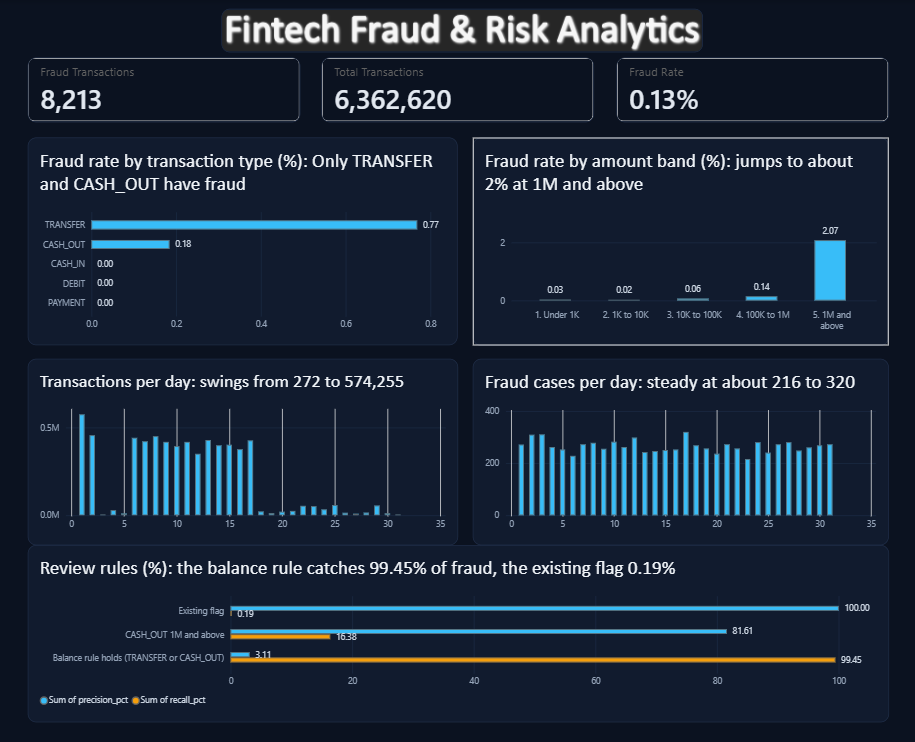

What the dashboard file says about the page in this screenshot:
{"tool":"powerbi","page":{"name":"Dashboard","canvas":[1280,1040],"ordinal":0},"visuals":[{"type":"clusteredBarChart","title":"Review rules (%): the balance rule catches 99.45% of fraud, the existing flag 0.19%","fields":{"Category":["Summary_rules.rule_name"],"Y":["Sum(Summary_rules.precision_pct)","Sum(Summary_rules.recall_pct)"]},"box":[40.9,759.1,1200.7,247.5],"z":0},{"type":"clusteredBarChart","title":"Fraud rate by transaction type (%): Only TRANSFER and CASH_OUT have fraud","fields":{"Category":["Summary_By_Type.type"],"Y":["Sum(Summary_By_Type.fraud_rate_pct)"]},"box":[40.9,192,599.1,289.8],"z":1000},{"type":"clusteredColumnChart","title":"Fraud rate by amount band (%): jumps to about 2% at 1M and above","fields":{"Category":["Summary_By_Amount_Band.amount_band"],"Y":["Sum(Summary_By_Amount_Band.fraud_rate_pct)"]},"box":[660.5,191.7,580,290],"z":2000},{"type":"clusteredColumnChart","title":"Transactions per day: swings from 272 to 574,255","fields":{"Category":["Summary_by_day.sim_day"],"Y":["Sum(Summary_by_day.txns)"]},"box":[40,500,600,260],"z":3000},{"type":"clusteredColumnChart","title":"Fraud cases per day: steady at about 216 to 320","fields":{"Category":["Summary_by_day.sim_day"],"Y":["Sum(Summary_by_day.fraud_txns)"]},"box":[660,500,580,260],"z":4000},{"type":"cardVisual","fields":{"Data":["Summary_By_Type.Fraud Rate"]},"box":[860,80,380,90],"z":5000},{"type":"cardVisual","fields":{"Data":["Summary_By_Type.Total Transactions"]},"box":[450,79.6,380,90],"z":6000},{"type":"cardVisual","fields":{"Data":["Summary_By_Type.Fraud Transactions"]},"box":[40,80,380,90],"z":7000},{"type":"image","box":[310,12,670.9,61],"z":8000}]}

Visuals, with their boxes in screenshot pixels (x1, y1, x2, y2), scaled from the page's 1280x1040 canvas onto the 915x742 screenshot:
"Review rules (%): the balance rule catches 99.45% of fraud, the existing flag 0.19%" clusteredBarChart: box=[29, 542, 888, 718]
"Fraud rate by transaction type (%): Only TRANSFER and CASH_OUT have fraud" clusteredBarChart: box=[29, 137, 458, 344]
"Fraud rate by amount band (%): jumps to about 2% at 1M and above" clusteredColumnChart: box=[472, 137, 887, 344]
"Transactions per day: swings from 272 to 574,255" clusteredColumnChart: box=[29, 357, 458, 542]
"Fraud cases per day: steady at about 216 to 320" clusteredColumnChart: box=[472, 357, 886, 542]
cardVisual - Summary_By_Type.Fraud Rate: box=[615, 57, 886, 121]
cardVisual - Summary_By_Type.Total Transactions: box=[322, 57, 593, 121]
cardVisual - Summary_By_Type.Fraud Transactions: box=[29, 57, 300, 121]
image: box=[222, 9, 701, 52]
